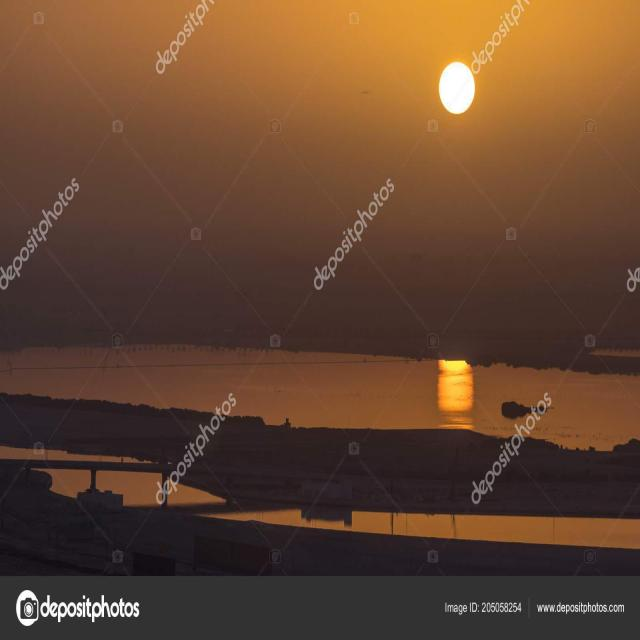other: (436, 339, 496, 436), (436, 42, 484, 133)
